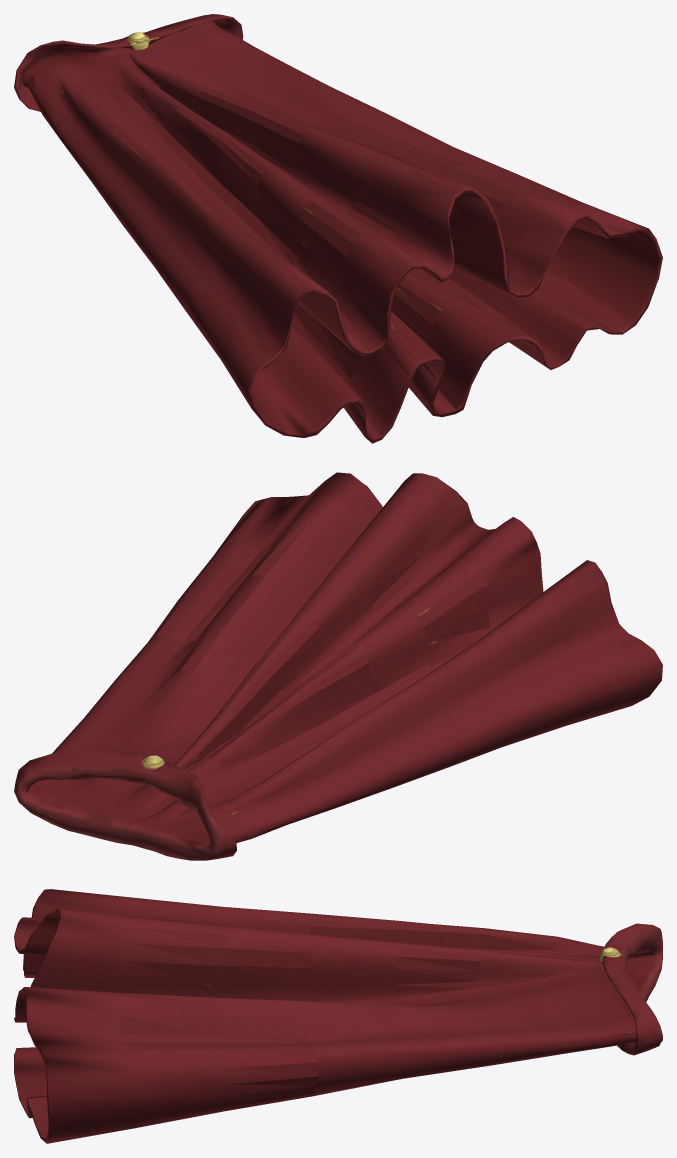
The model's file is wool_cape.glb.
The picture shows the model from 3 angles, top to bottom: view 1: azimuth 30°, elevation 25°; view 2: azimuth 150°, elevation 25°; view 3: azimuth 270°, elevation 25°; orthographic projection. The views are drawn at different scales.
Parts seen in each view (by area): view 1: wool_cape; view 2: wool_cape; view 3: wool_cape.
Part boxes in pixels (x1,y1,x2,y2): wool_cape: (14,14,662,443); wool_cape: (14,472,662,860); wool_cape: (14,889,662,1143).
Bounding box in the file's own units: 0.4137 × 0.215 × 0.6.
1 material, 1 textured.
